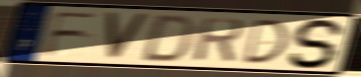D: (137, 13, 199, 64), (240, 18, 290, 65)
F: (40, 10, 101, 58)
R: (191, 16, 246, 65)
S: (286, 17, 349, 70)
V: (103, 10, 152, 62)
